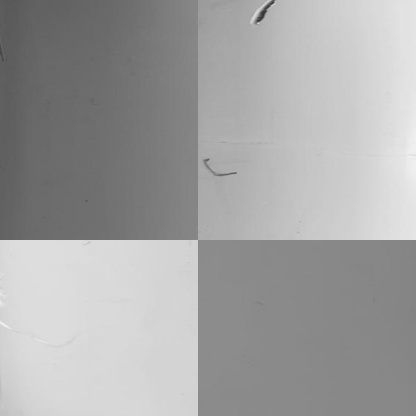fengxi: (202, 154, 243, 181)
kongdong: (249, 2, 276, 23)
